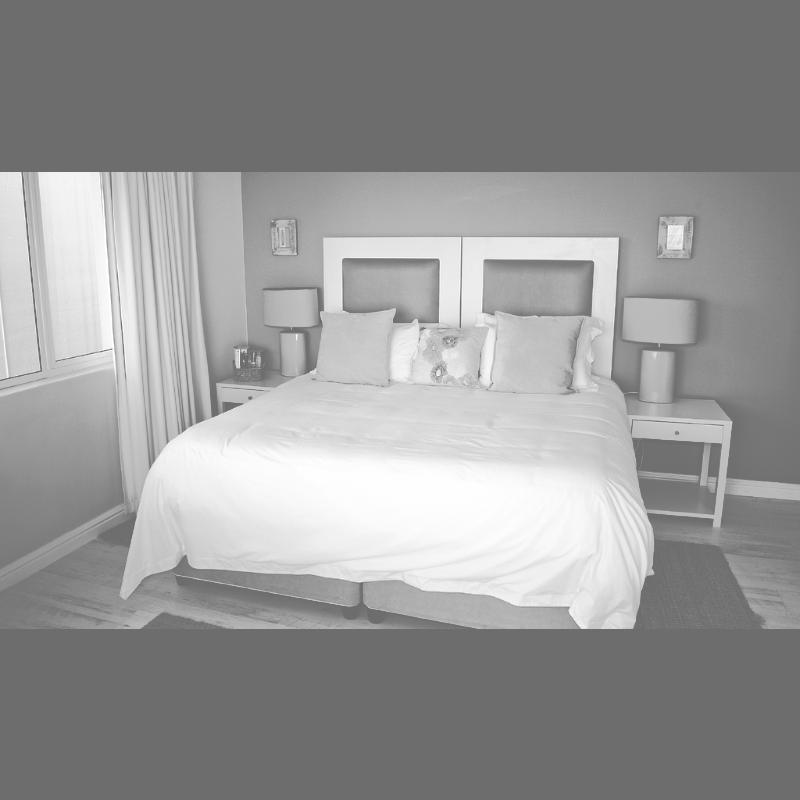pillow: (484, 308, 582, 396), (311, 303, 393, 391), (406, 318, 490, 388), (556, 317, 608, 389), (382, 318, 420, 376)
